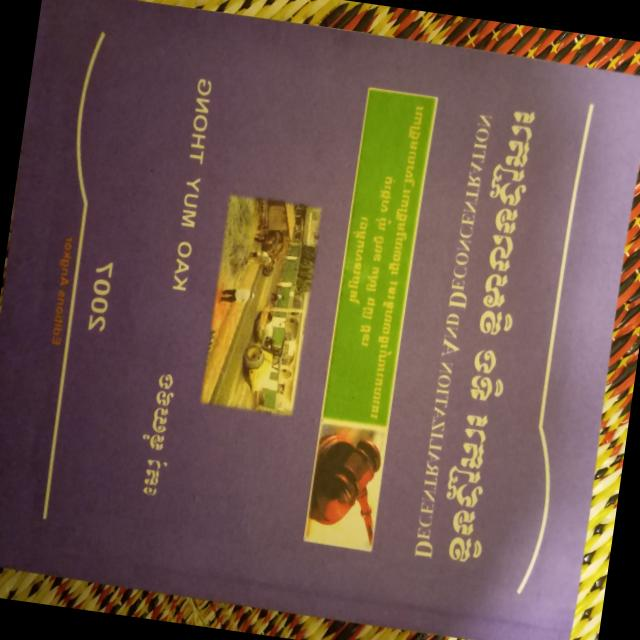1: (365, 102, 428, 422), (131, 369, 185, 506)
2: (436, 106, 544, 572)
5: (355, 175, 398, 350)
646: (78, 248, 123, 342)
Yolov11_80vkh: (343, 216, 371, 308)
